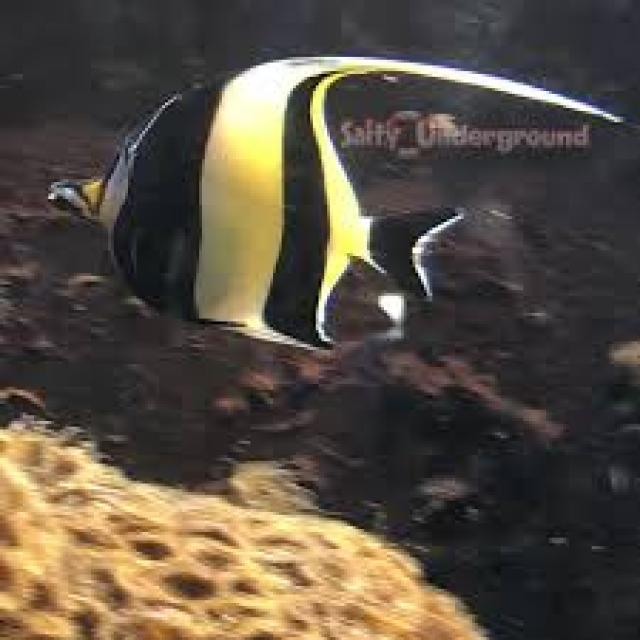MorishIdol: (42, 49, 624, 358)
